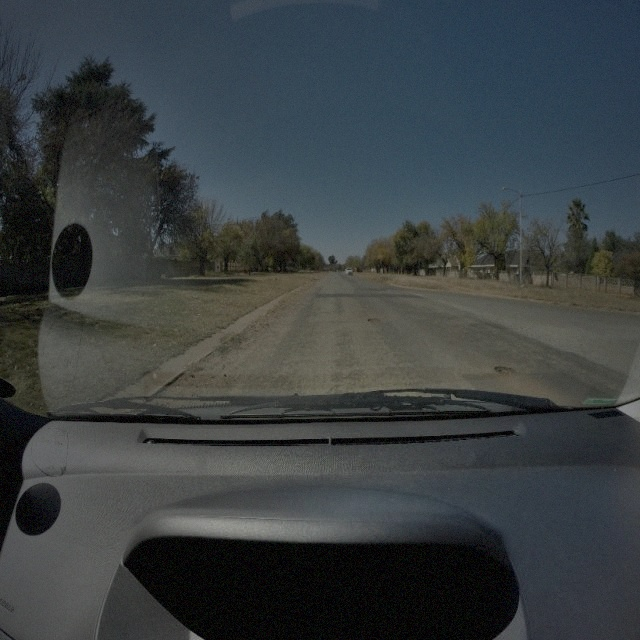pothole: (492, 362, 515, 377), (366, 315, 380, 326)
